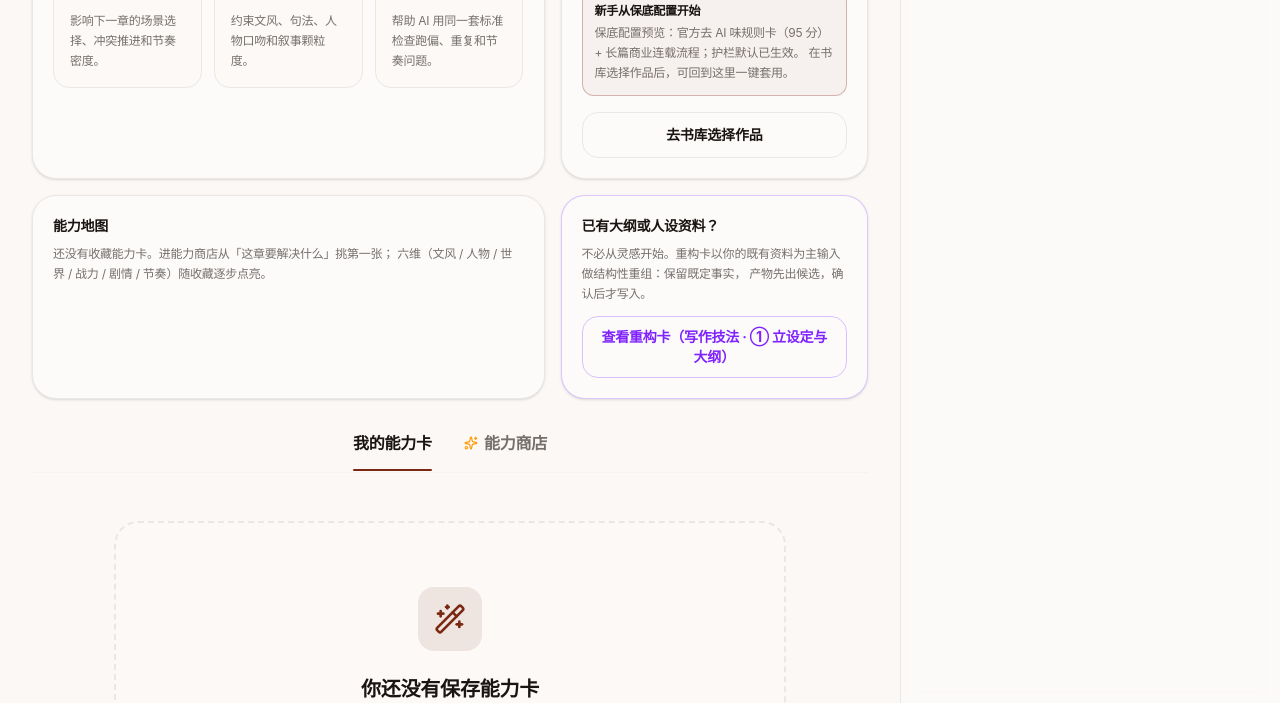
Scenario: Plan 235 冷启动导购前置 › 迁移者指引卡可见，点击落在写作技法页签的①阶段（plan 238）
The image size is (1280, 703).
(page scrolled)
Expected: the element with test id "migrate-guide" shows "已有大纲或人设资料", [582,216,719,234]
Expected: the element with test id "migrate-guide" shows "先出候选", [582,246,843,300]
Click the button with test id "go-refine-cards" at {"x": 714, "y": 346}, box [582,316,847,378]
(page scrolled)
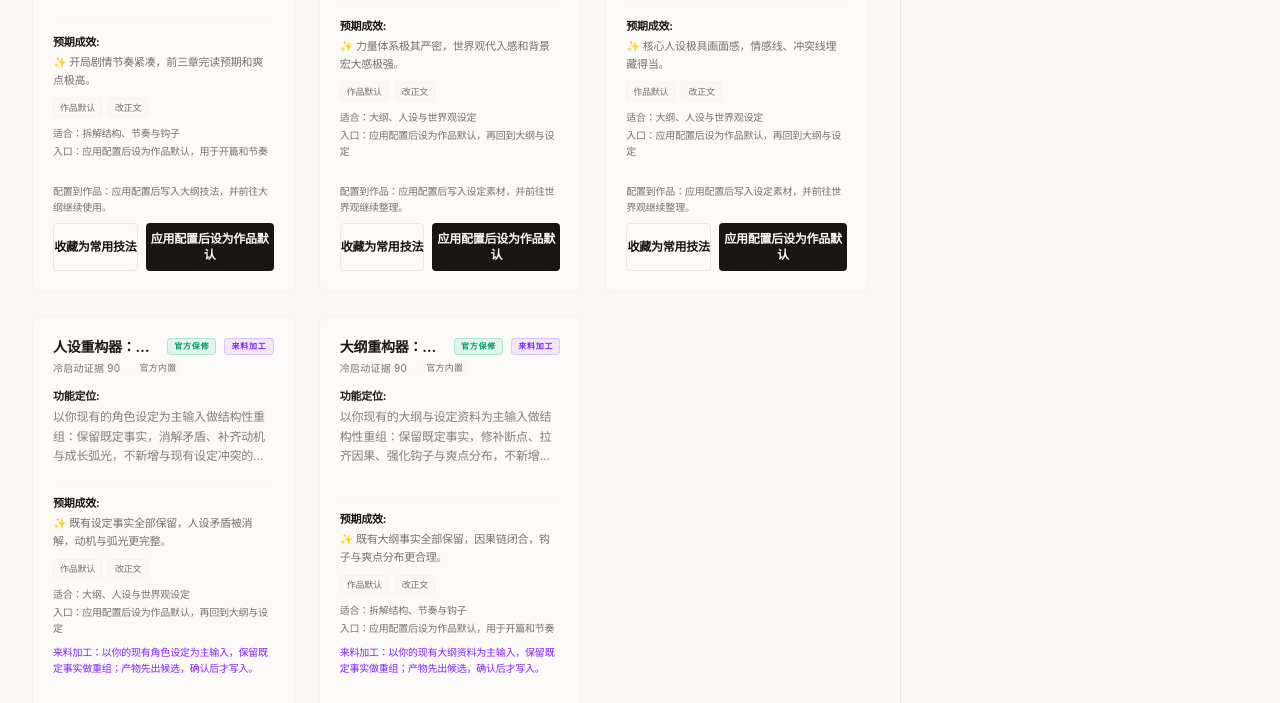
Expected: the text "人设重构器：既定资料保留重组" is shown, [53,337,159,357]
